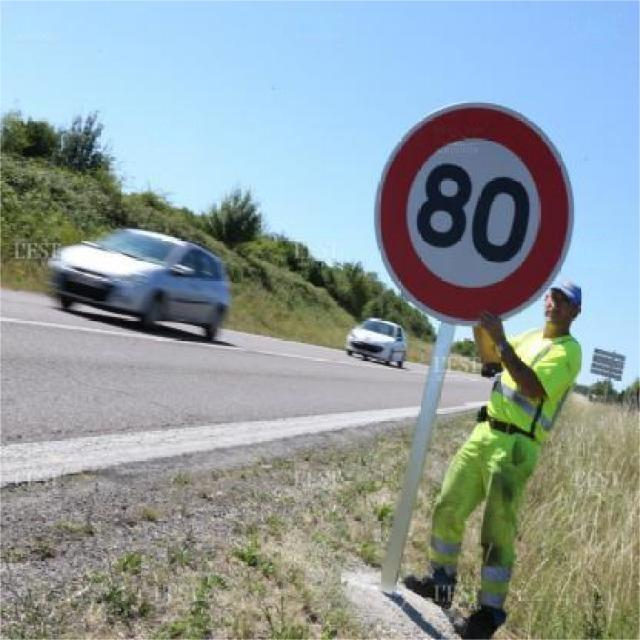speed limit 80: (374, 100, 571, 324)
